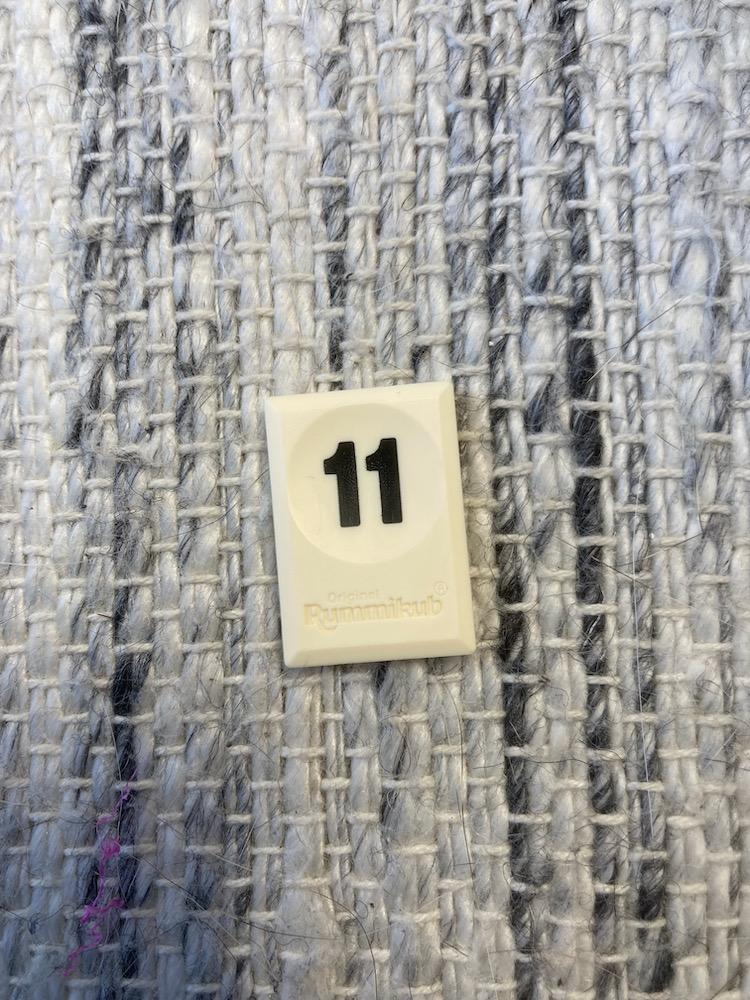black_11: (266, 381, 475, 668)
